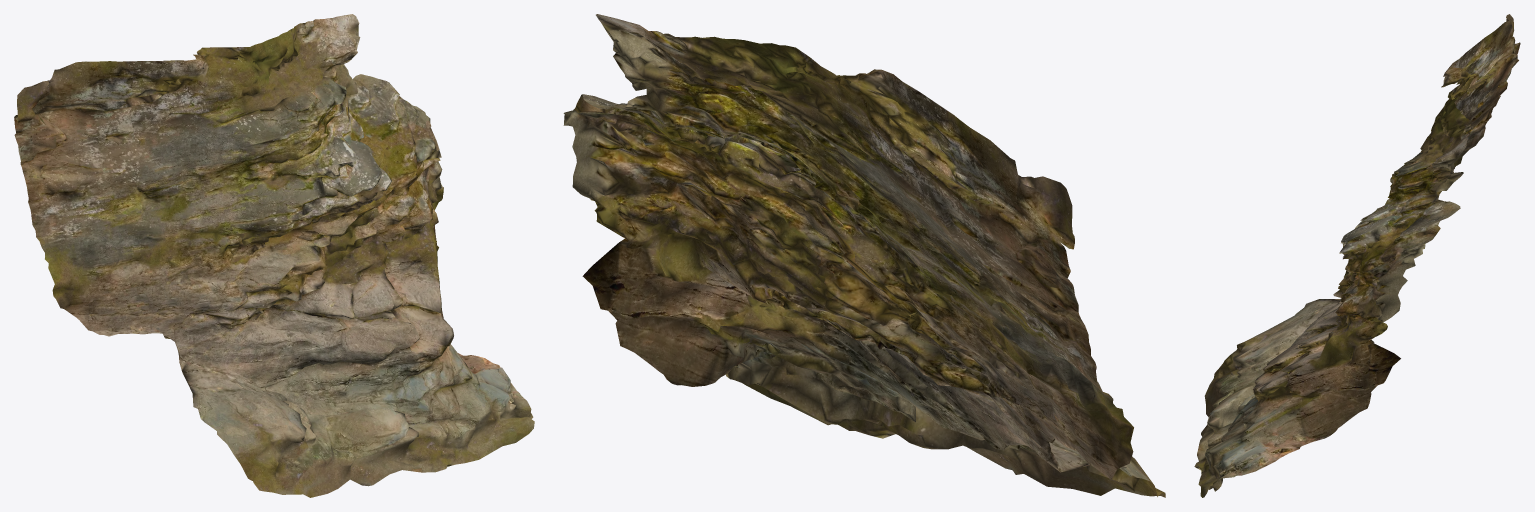
The model's file is ph-rock_face_02.glb.
The picture shows the model from 3 angles, left to right: view 1: azimuth 30°, elevation 25°; view 2: azimuth 150°, elevation 25°; view 3: azimuth 270°, elevation 25°; orthographic projection. The views are drawn at different scales.
Visible parts, largest first — view 1: rock_face_02; view 2: rock_face_02; view 3: rock_face_02.
Boxes of the visible parts, x1,y1,x2,y2 form: rock_face_02: (14,14,534,497); rock_face_02: (563,14,1165,497); rock_face_02: (1194,14,1520,497).
Size of the model in its own units: 2.71 by 2.47 by 2.13.
1 material, 1 textured.
